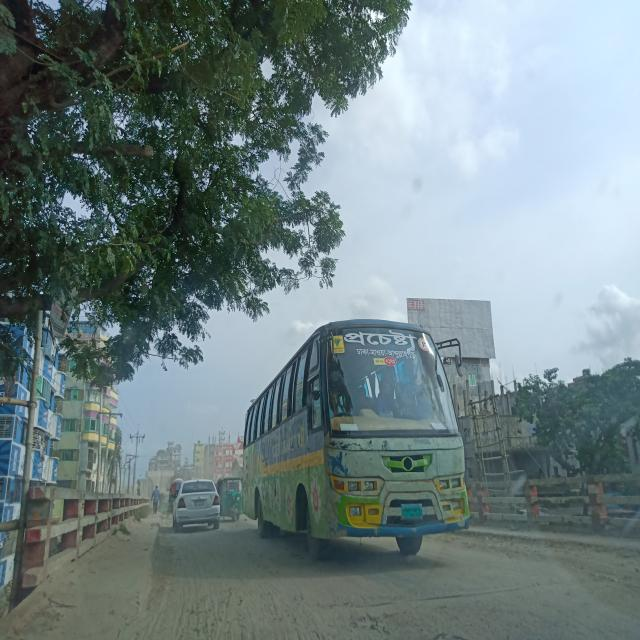bus: (241, 319, 470, 561)
